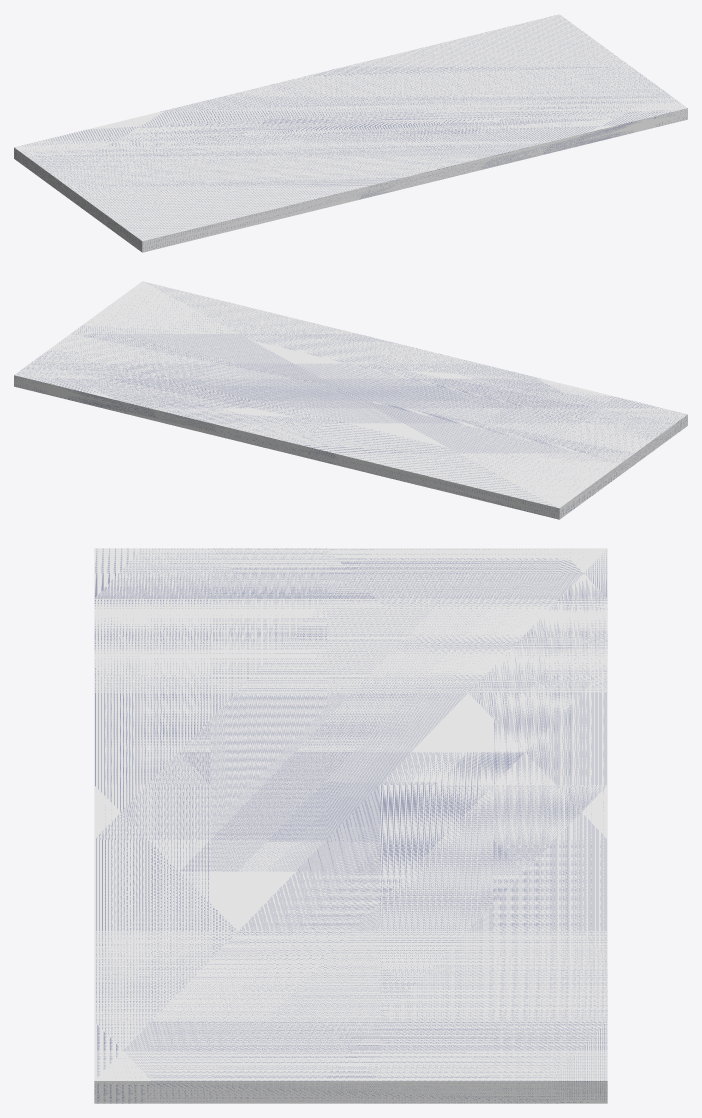
Rendered from shelf.fbx.
3 views of the same model, one above another, from view 1: azimuth 30°, elevation 25°; view 2: azimuth 150°, elevation 25°; view 3: azimuth 270°, elevation 25° (orthographic). The views are drawn at different scales.
Parts seen in each view (by area): view 1: Model; view 2: Model; view 3: Model.
Part boxes in pixels (x1,y1,x2,y2): Model: (14,14,687,252); Model: (14,281,687,519); Model: (94,548,607,1103).
Bounding box in the file's own units: 751 × 15 × 306.
